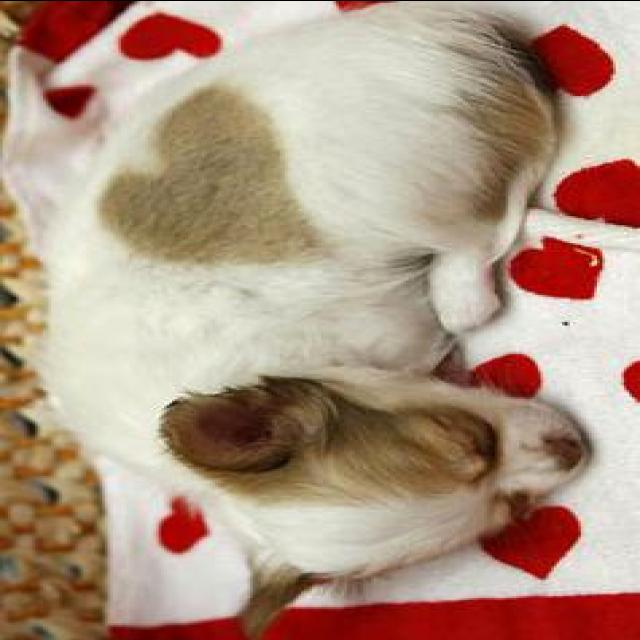chihuahua: (16, 2, 637, 636)
